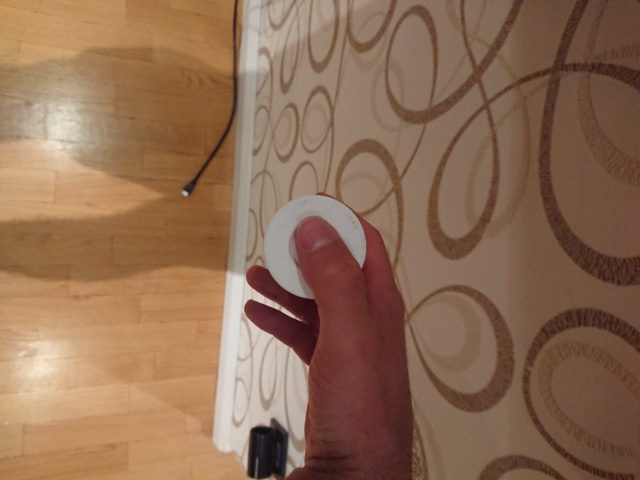Solana Pag Fine Sea Salt 250g: (260, 192, 371, 302)
